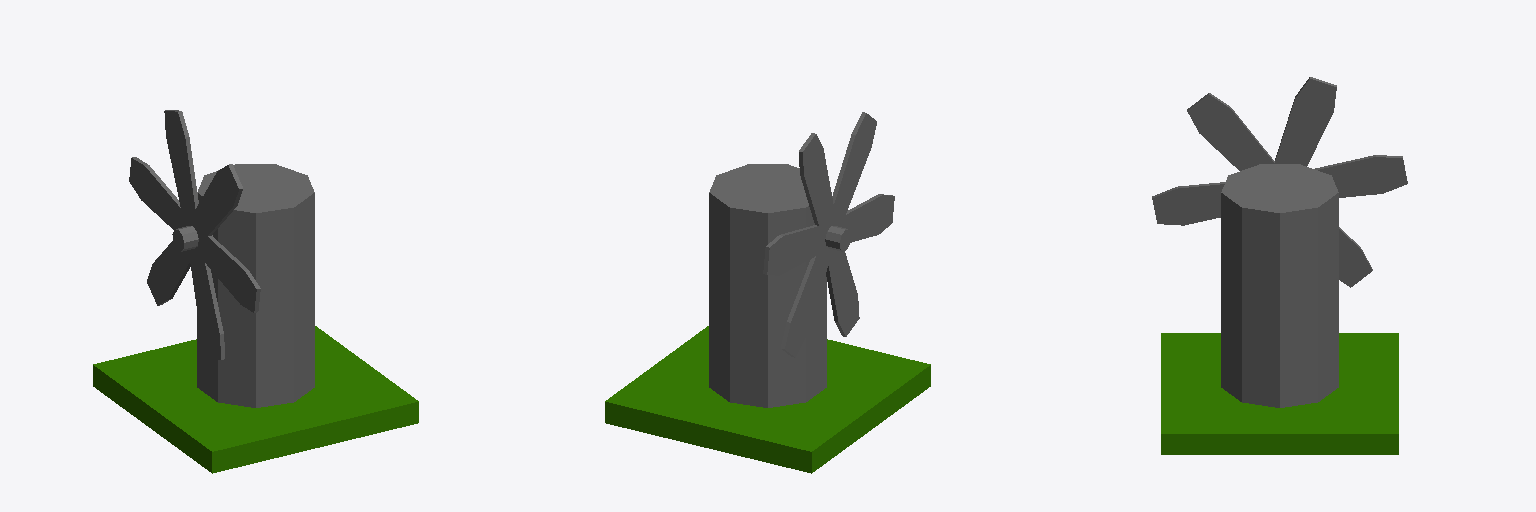
The model's file is Farm1.obj.
3 views of the same model, side by side, from view 1: azimuth 30°, elevation 25°; view 2: azimuth 150°, elevation 25°; view 3: azimuth 270°, elevation 25° (orthographic).
Visible parts, largest first — view 1: Tilebase111, Cylinder046, Box719, Box716, Box718, Box717, Box720, Box715, Cylinder047; view 2: Tilebase111, Cylinder046, Box718, Box715, Box719, Box720, Box716, Box717, Cylinder047; view 3: Cylinder046, Tilebase111, Box719, Box718, Box720, Box717, Box715.
Boxes of the visible parts, x1=… form: Tilebase111: x1=93, y1=326, x2=418, y2=473; Cylinder046: x1=197, y1=164, x2=314, y2=407; Box719: x1=164, y1=110, x2=198, y2=226; Box716: x1=189, y1=243, x2=224, y2=359; Box718: x1=190, y1=164, x2=242, y2=243; Box717: x1=198, y1=229, x2=260, y2=312; Box720: x1=129, y1=157, x2=187, y2=229; Box715: x1=147, y1=241, x2=195, y2=305; Cylinder047: x1=172, y1=226, x2=212, y2=251; Tilebase111: x1=605, y1=326, x2=930, y2=473; Cylinder046: x1=709, y1=164, x2=826, y2=407; Box718: x1=828, y1=112, x2=876, y2=226; Box715: x1=781, y1=239, x2=832, y2=357; Box719: x1=799, y1=133, x2=836, y2=236; Box720: x1=763, y1=225, x2=827, y2=275; Box716: x1=826, y1=250, x2=859, y2=336; Box717: x1=841, y1=194, x2=894, y2=242; Cylinder047: x1=825, y1=226, x2=851, y2=251; Cylinder046: x1=1221, y1=164, x2=1338, y2=407; Tilebase111: x1=1161, y1=333, x2=1398, y2=454; Box719: x1=1274, y1=77, x2=1336, y2=166; Box718: x1=1187, y1=93, x2=1274, y2=170; Box720: x1=1315, y1=155, x2=1407, y2=197; Box717: x1=1152, y1=182, x2=1224, y2=225; Box715: x1=1339, y1=227, x2=1372, y2=287.
Size of the model in its own units: 10 by 13.73 by 10.69.